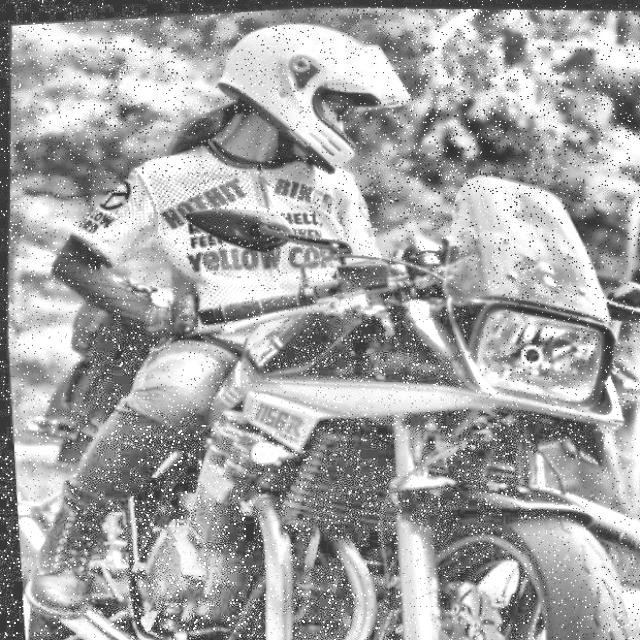Helmet: (200, 1, 422, 186)
